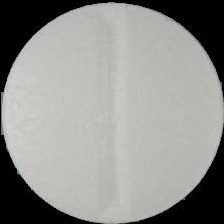16590-286: (0, 0, 224, 224)
